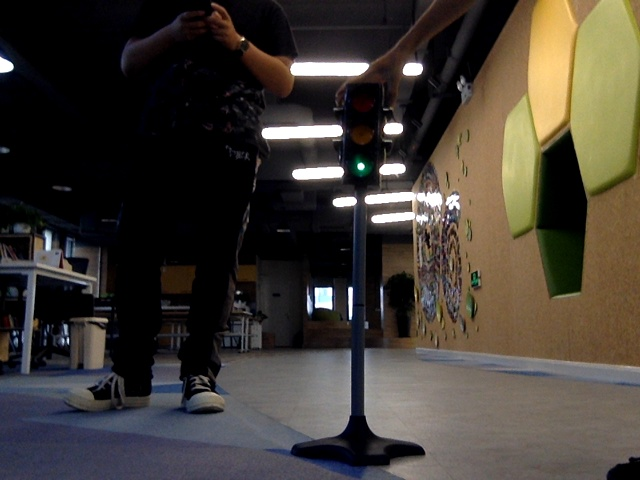green: (342, 88, 379, 180)
